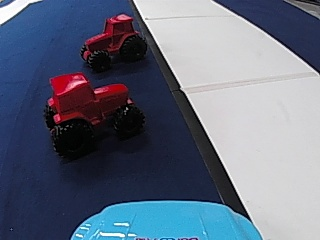tractor: (39, 69, 145, 157), (77, 12, 147, 71)
